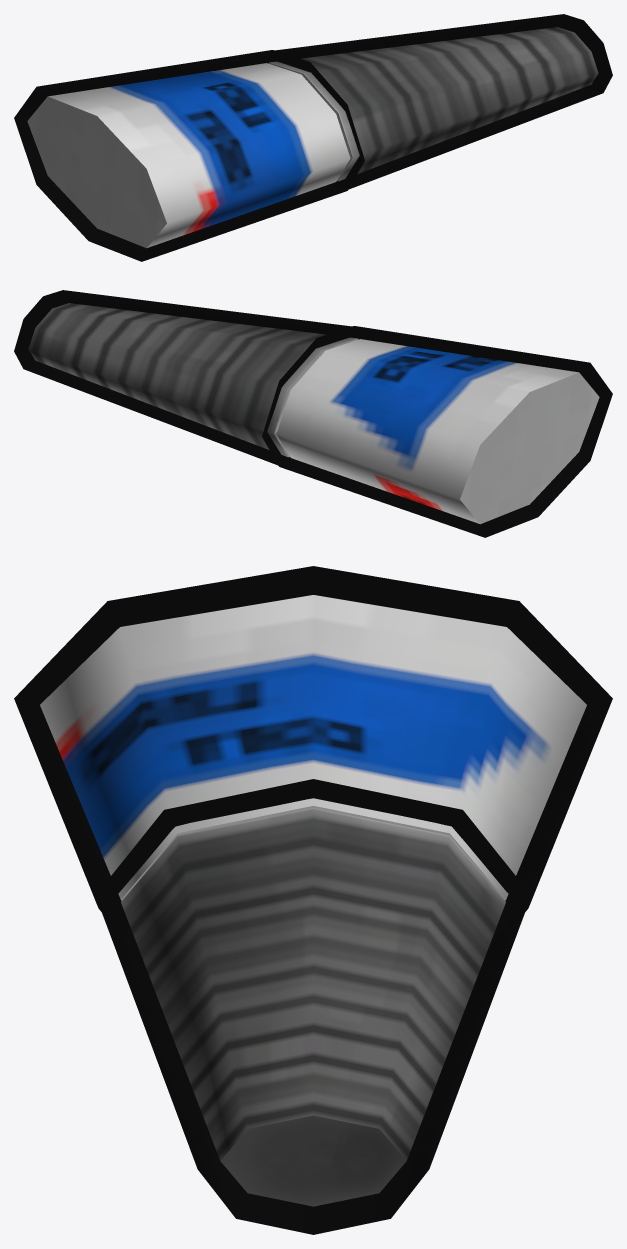
File: Super bond.glb
3 renders of one model, top to bottom at view 1: azimuth 30°, elevation 25°; view 2: azimuth 150°, elevation 25°; view 3: azimuth 270°, elevation 25°, orthographic. The views are drawn at different scales.
Parts seen in each view (by area): view 1: Super bond; view 2: Super bond; view 3: Super bond.
Boxes of the visible parts, x1=… form: Super bond: x1=14, y1=14, x2=612, y2=261; Super bond: x1=14, y1=290, x2=612, y2=537; Super bond: x1=14, y1=566, x2=612, y2=1234.
Bounding box in the file's own units: 1.16 × 0.2935 × 0.6099.
2 materials, 1 textured.
